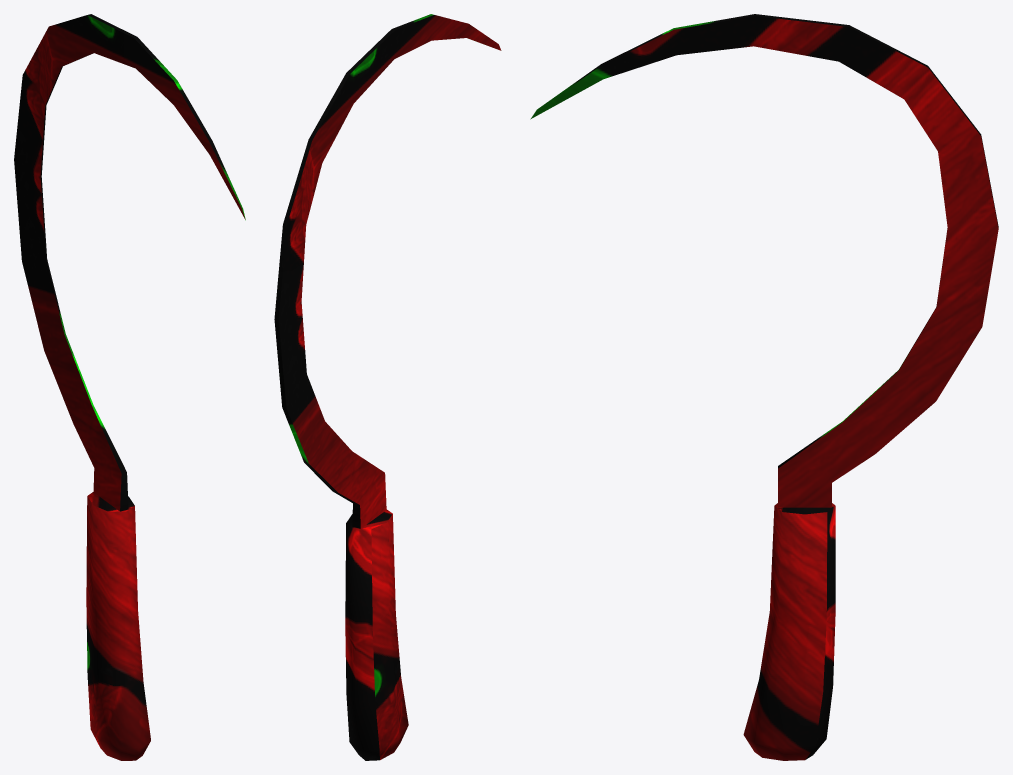
File: Sickle01.fbx
3 renders of one model, left to right at view 1: azimuth 30°, elevation 25°; view 2: azimuth 150°, elevation 25°; view 3: azimuth 270°, elevation 25°, orthographic. The views are drawn at different scales.
Parts seen in each view (by area): view 1: Sickle01_LOD0; view 2: Sickle01_LOD0; view 3: Sickle01_LOD0.
Boxes of the visible parts, box(x1,y1,x2,y2) form: Sickle01_LOD0: box(14, 14, 245, 760); Sickle01_LOD0: box(274, 14, 501, 760); Sickle01_LOD0: box(530, 14, 998, 760).
Size of what is drawn, in the model's own units: 0.0276 by 0.4561 by 0.2605.
